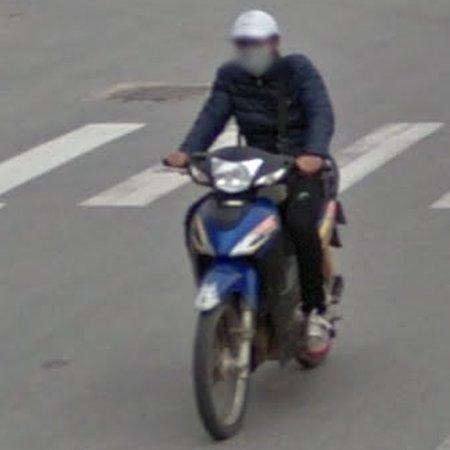motorcycles: (185, 147, 344, 441)
